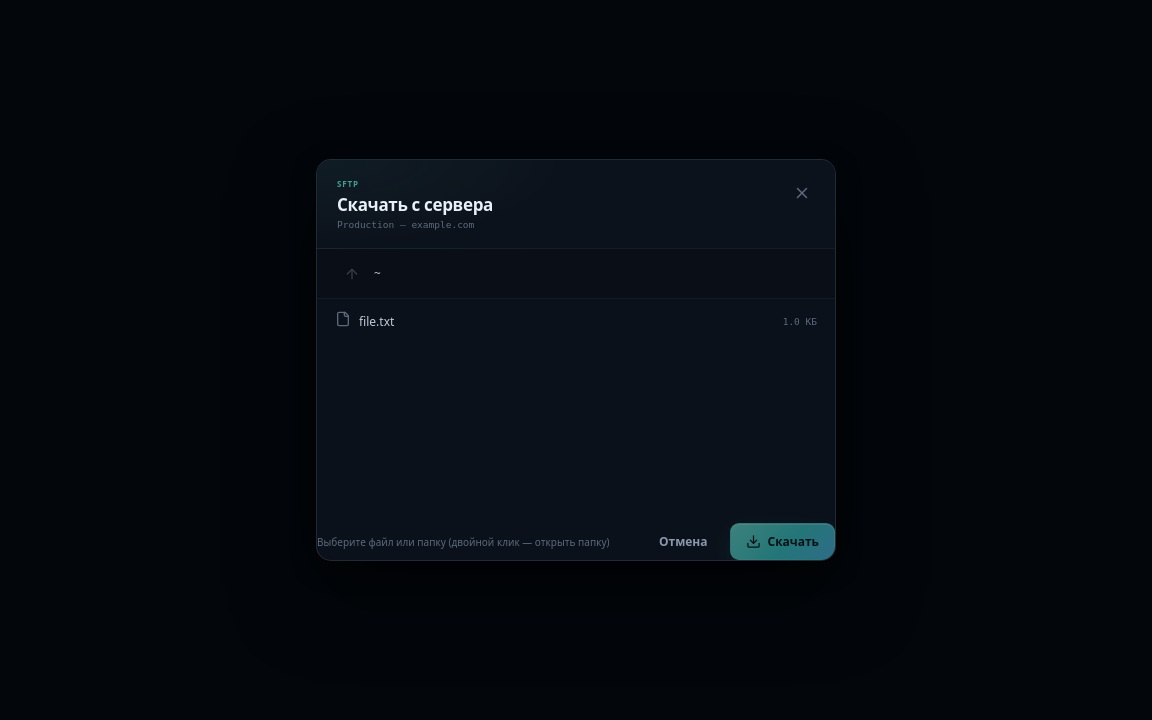
Test: FileTransferDialog › показывает ошибку скачивания
Click the text "file.txt".
click(377, 321)  # box [359, 312, 394, 330]
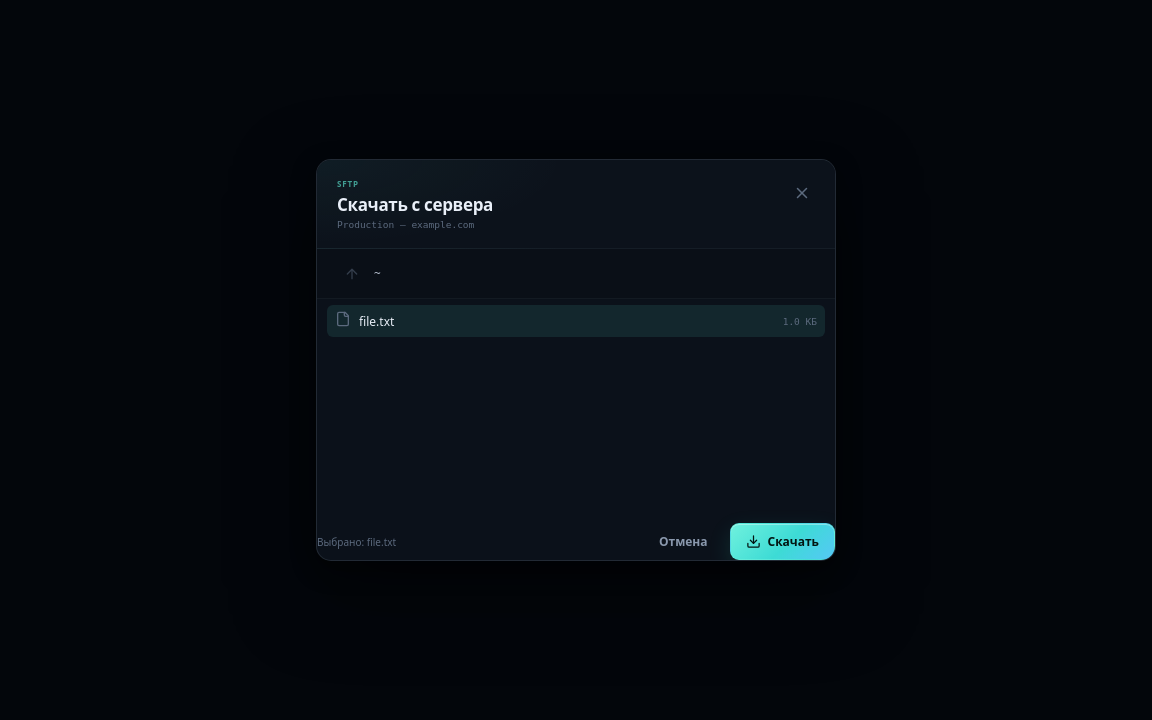
Click the button "Скачать".
click(782, 542)  # box [730, 523, 835, 560]
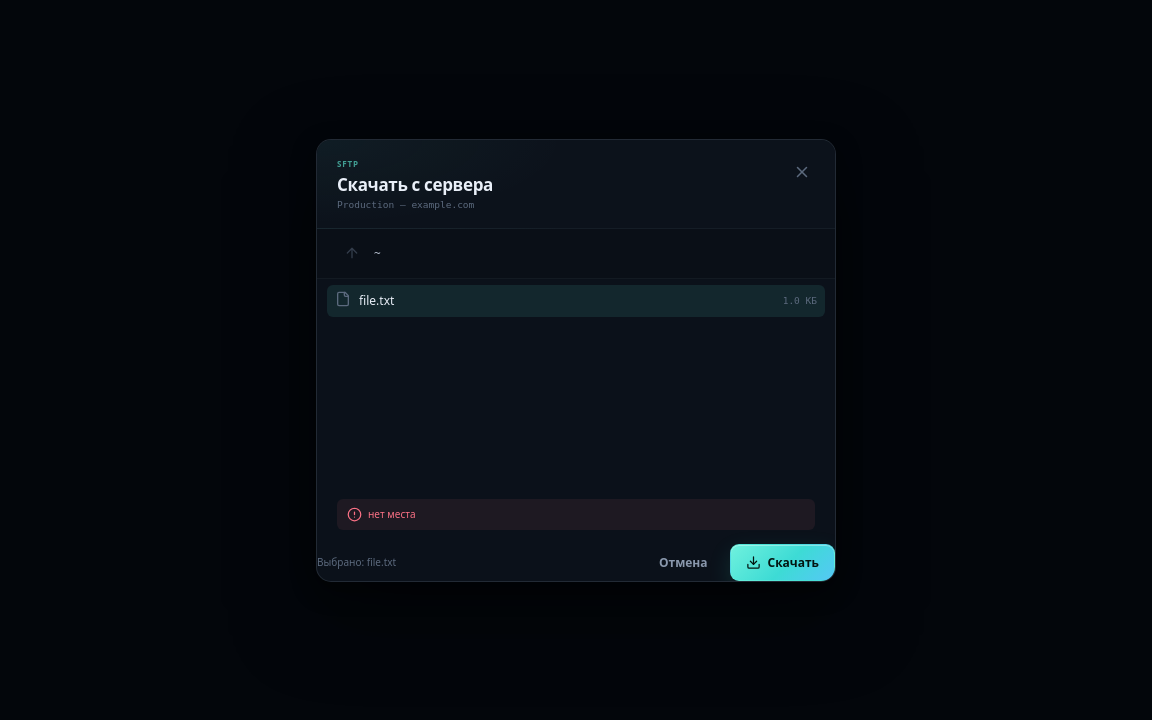
Expected: the text "нет места" is shown, [337, 498, 815, 530]
